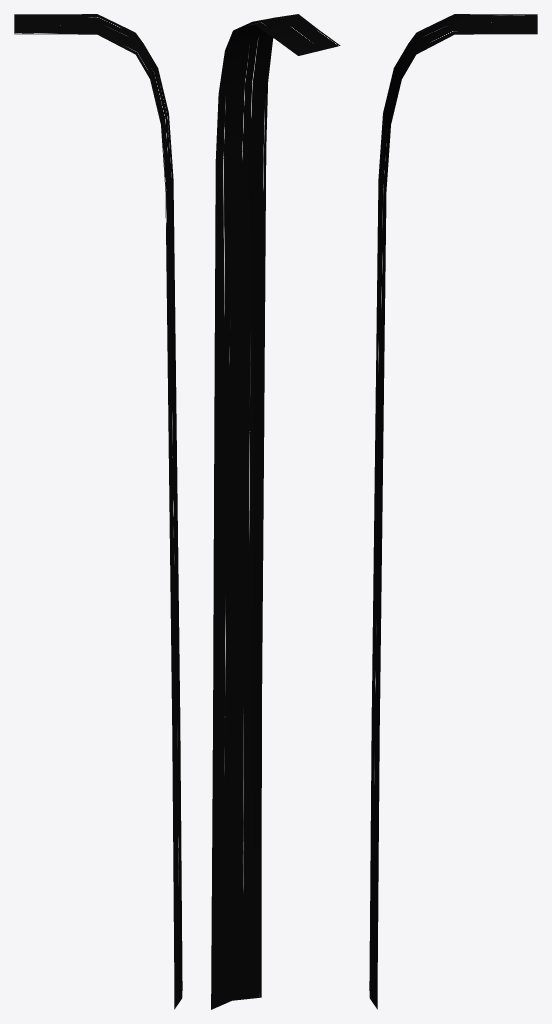
File: P_Sandfall05.obj
3 renders of one model, left to right at view 1: azimuth 90°, elevation 25°; view 2: azimuth 210°, elevation 25°; view 3: azimuth 270°, elevation 25°, orthographic. The views are drawn at different scales.
Size of the model in its own units: 2.26 by 43.24 by 6.77.
